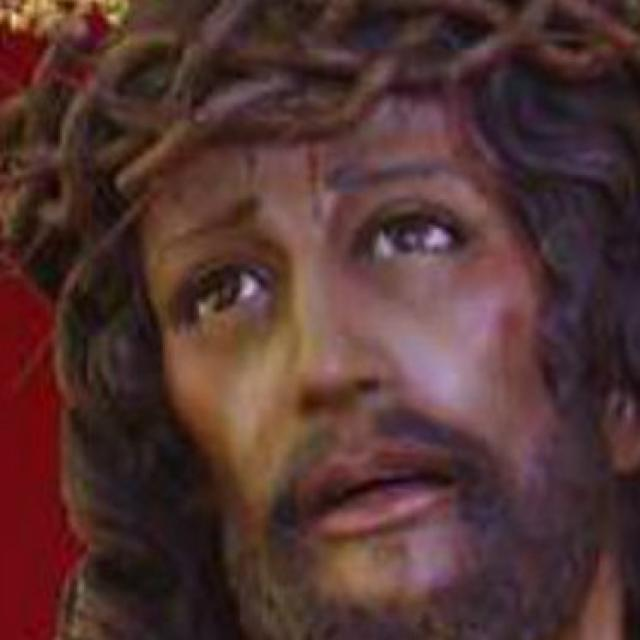Depress: (132, 84, 602, 638)
